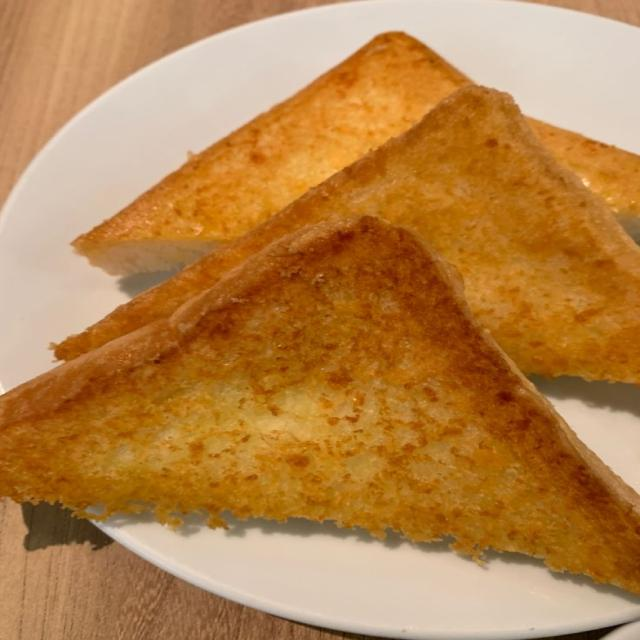toast bread: (0, 217, 639, 593), (56, 87, 639, 383), (74, 33, 470, 274)
